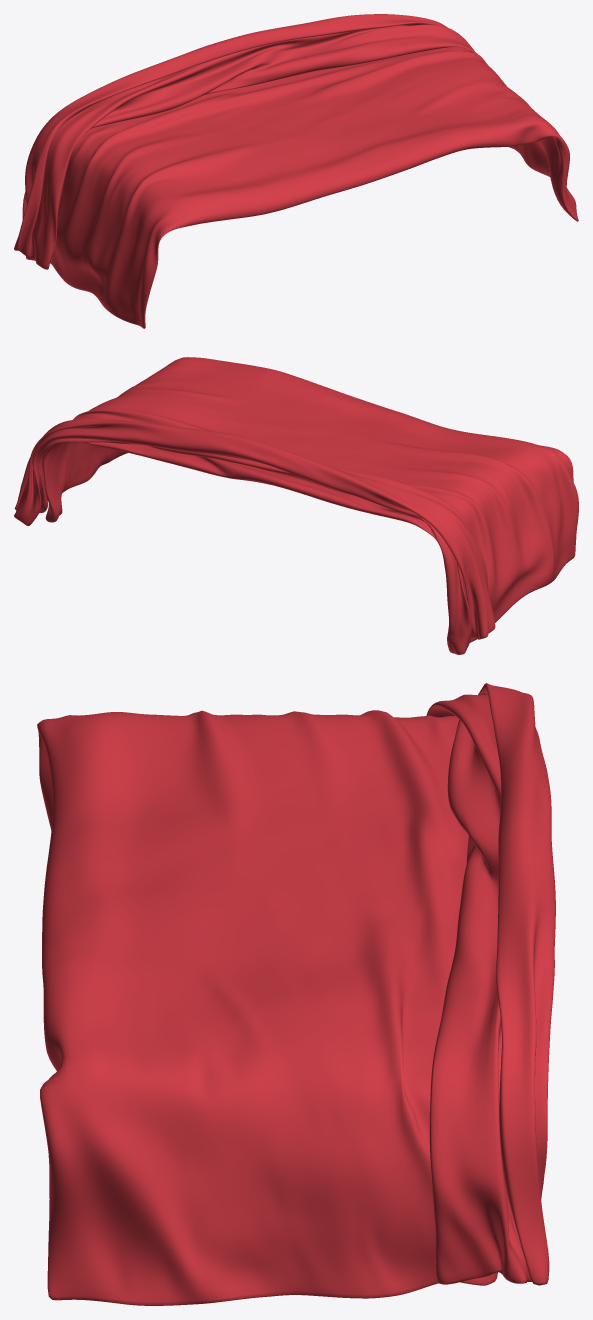
Rendered from Duvet.FBX.
3 views of the same model, one above another, from view 1: azimuth 30°, elevation 25°; view 2: azimuth 150°, elevation 25°; view 3: azimuth 270°, elevation 25° (orthographic). The views are drawn at different scales.
Parts seen in each view (by area): view 1: Plane003; view 2: Plane003; view 3: Plane003.
Boxes of the visible parts, x1=… form: Plane003: x1=14, y1=14, x2=578, y2=328; Plane003: x1=14, y1=357, x2=578, y2=654; Plane003: x1=37, y1=683, x2=555, y2=1305.
Bounding box in the file's own units: 70.62 × 24.92 × 34.17.
